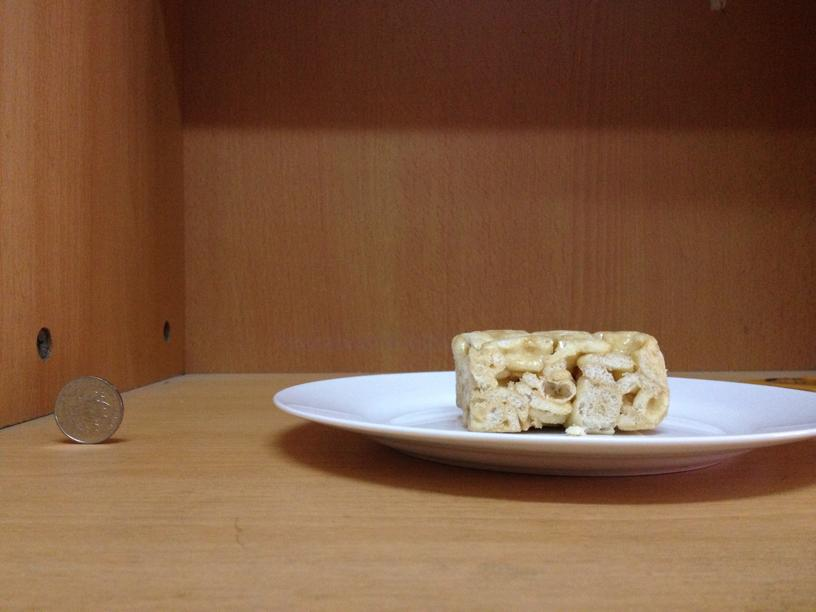coin: (50, 373, 124, 445)
sachima: (443, 322, 670, 436)
